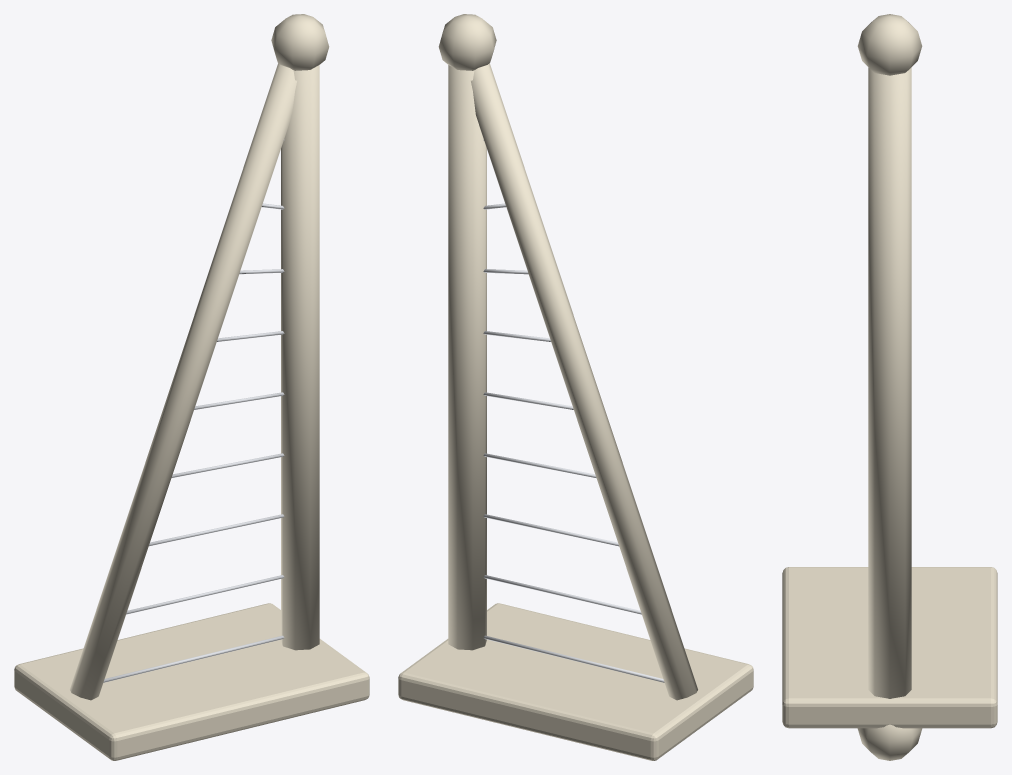
File: instrument_bone_harp.glb
3 renders of one model, left to right at view 1: azimuth 30°, elevation 25°; view 2: azimuth 150°, elevation 25°; view 3: azimuth 270°, elevation 25°, orthographic. The views are drawn at different scales.
Visible parts, largest first — view 1: GD_instrument_bone_harp__m0, GD_instrument_bone_harp__m1; view 2: GD_instrument_bone_harp__m0, GD_instrument_bone_harp__m1; view 3: GD_instrument_bone_harp__m0.
Boxes of the visible parts, x1,y1,x2,y2 form: GD_instrument_bone_harp__m0: [14, 14, 369, 760]; GD_instrument_bone_harp__m1: [103, 139, 284, 682]; GD_instrument_bone_harp__m0: [398, 14, 753, 760]; GD_instrument_bone_harp__m1: [483, 139, 664, 682]; GD_instrument_bone_harp__m0: [782, 14, 997, 760].
Bounding box in the file's own units: 0.61 × 1.52 × 0.4.
